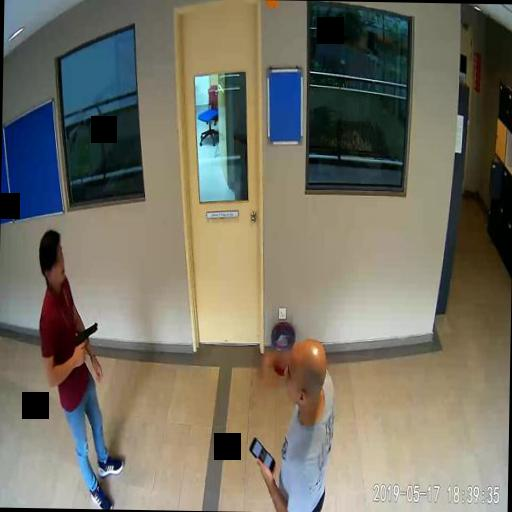Handgun: (74, 321, 96, 361)
